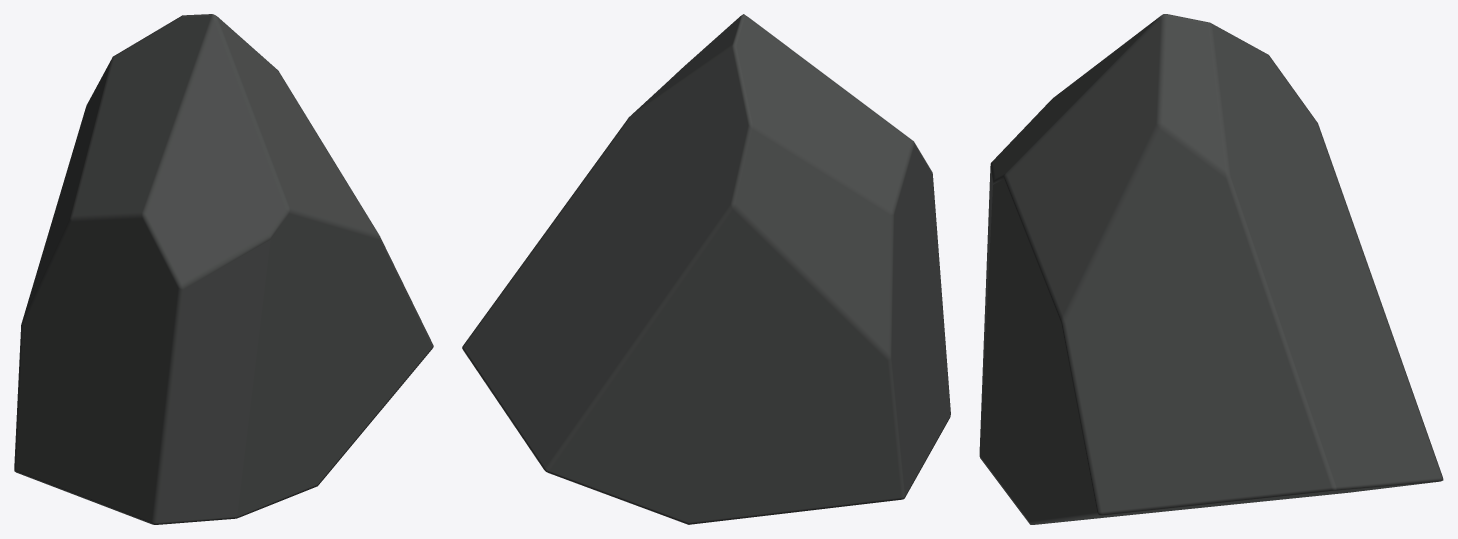
The model's file is SM_Stone07.fbx.
3 renders of one model, left to right at view 1: azimuth 30°, elevation 25°; view 2: azimuth 150°, elevation 25°; view 3: azimuth 270°, elevation 25°, orthographic. The views are drawn at different scales.
Parts seen in each view (by area): view 1: Stone07.001; view 2: Stone07.001; view 3: Stone07.001.
Part boxes in pixels (box(x1,y1,x2,y2)): Stone07.001: box(14, 14, 433, 524); Stone07.001: box(462, 14, 950, 524); Stone07.001: box(979, 14, 1443, 524).
Bounding box in the file's own units: 261 × 287 × 244.
